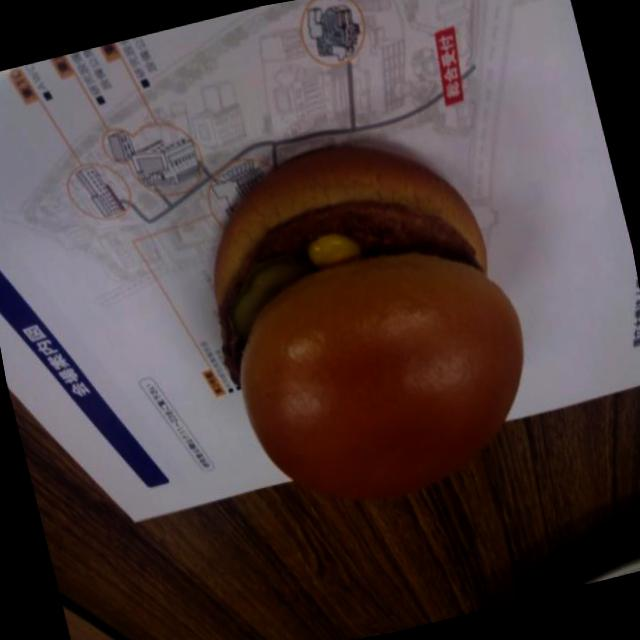Hamburger: (166, 98, 570, 549)
